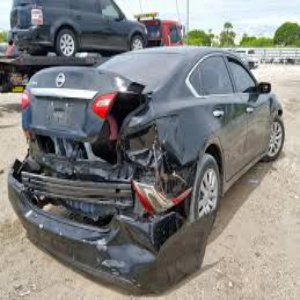bonnet: (27, 60, 134, 139)
bumper: (21, 181, 214, 292)
